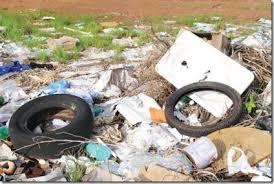tire: (10, 93, 92, 158), (164, 81, 245, 139)
